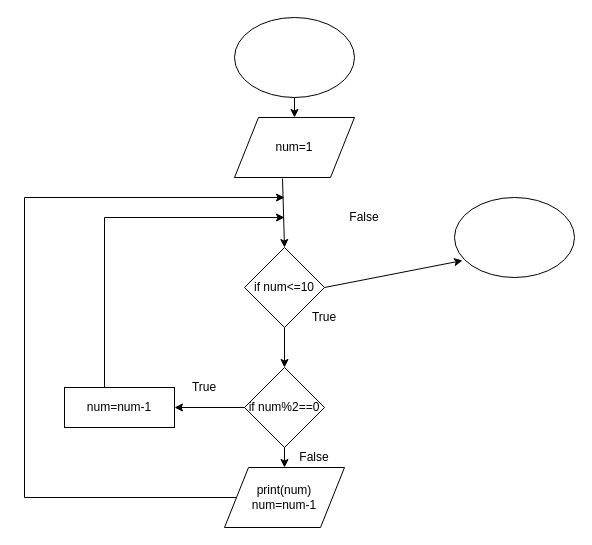
The diagram is 592 pixels wide and 545 high, and some of its shapes have lost their labels. The shapes that lost their labels are listed below. From the top down, each one's centre as x and y in pixels, then its label:
point 294,57: start
point 514,237: stop
